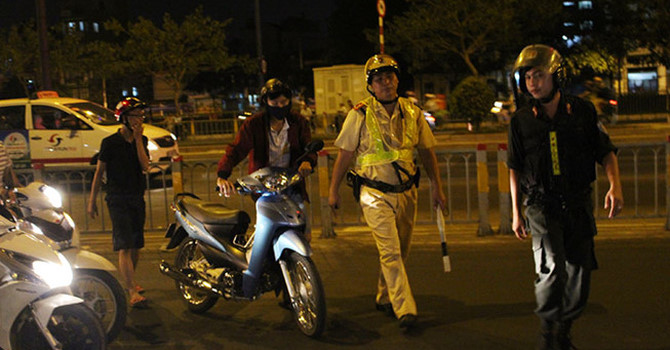police: (322, 47, 466, 328)
